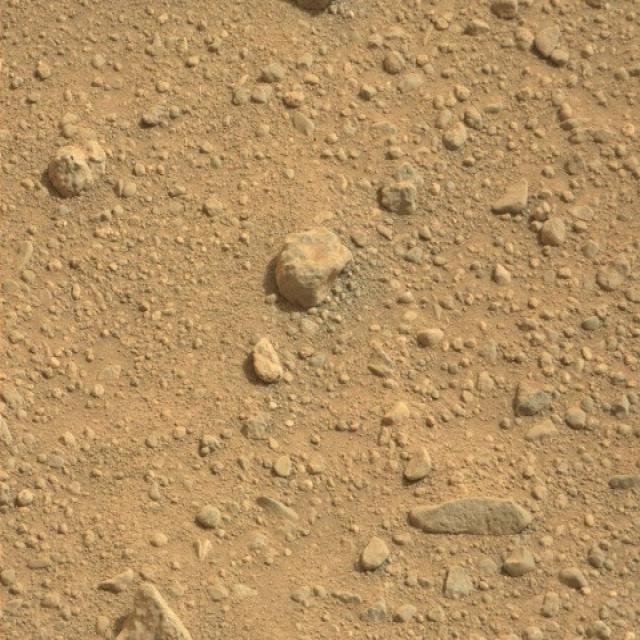mars-rocks: (275, 228, 353, 308), (409, 498, 533, 536), (116, 585, 192, 640), (47, 146, 93, 196), (253, 338, 284, 384), (380, 181, 417, 214)
